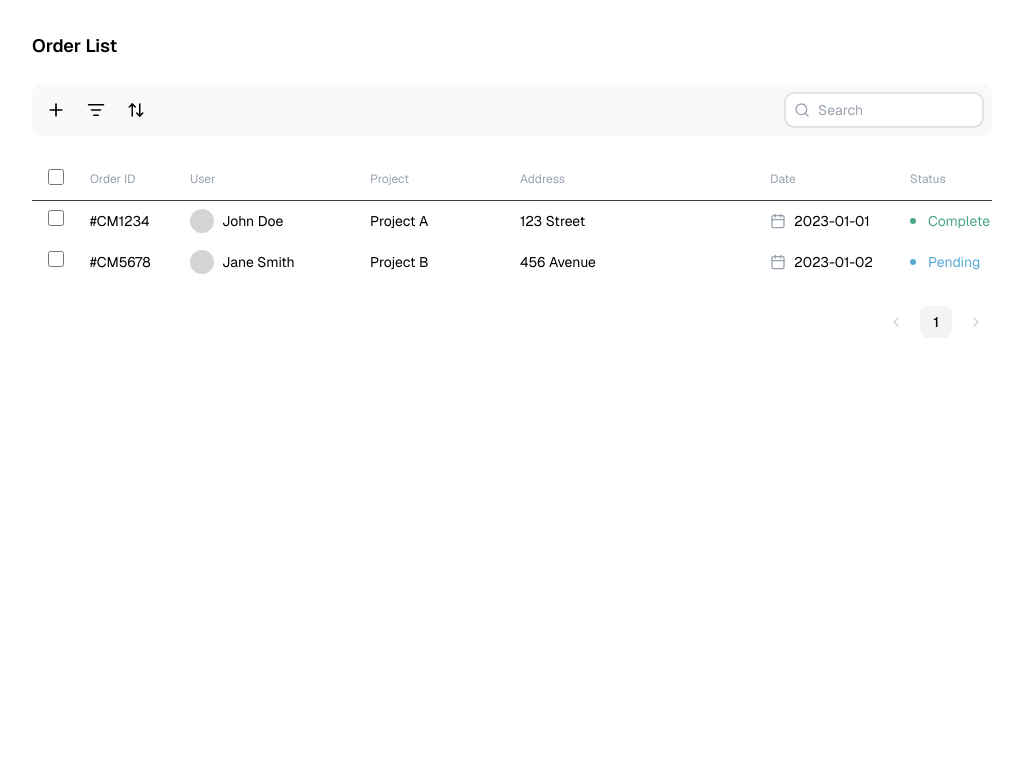
OrdersList Page › can add a new order via the dialog
Click the button named "add order".
click(56, 110)  # box [40,94,72,126]
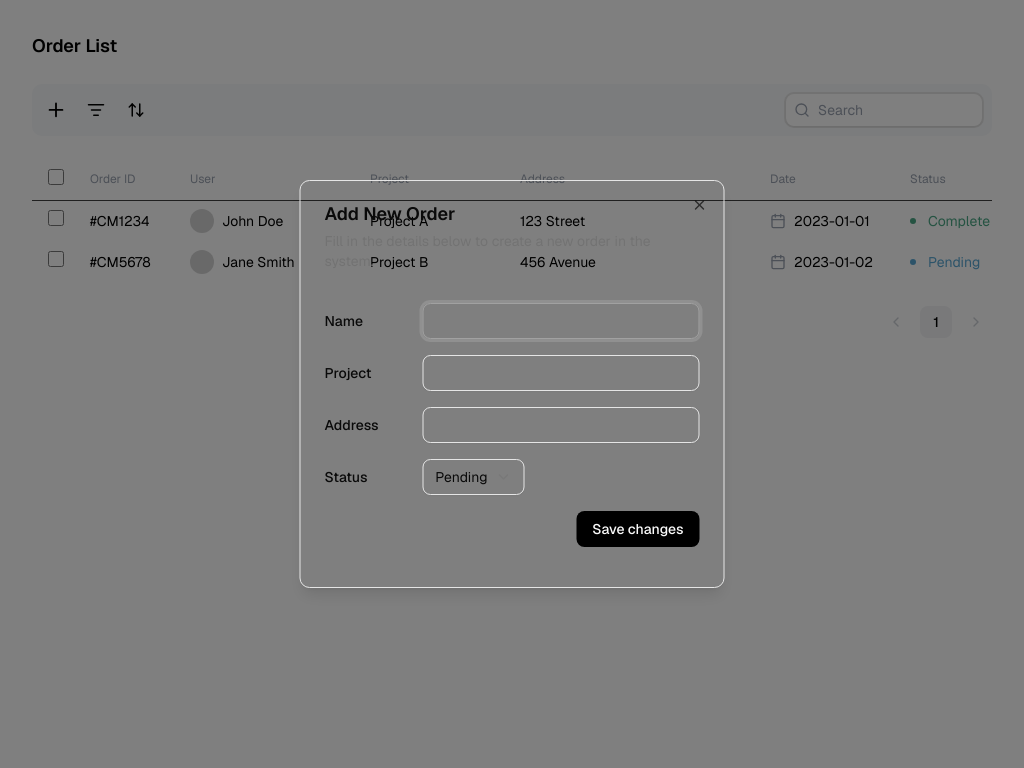
Type "New User" into the field labelled "Name".
click(561, 321); type("New User")  # box [422,303,700,339]
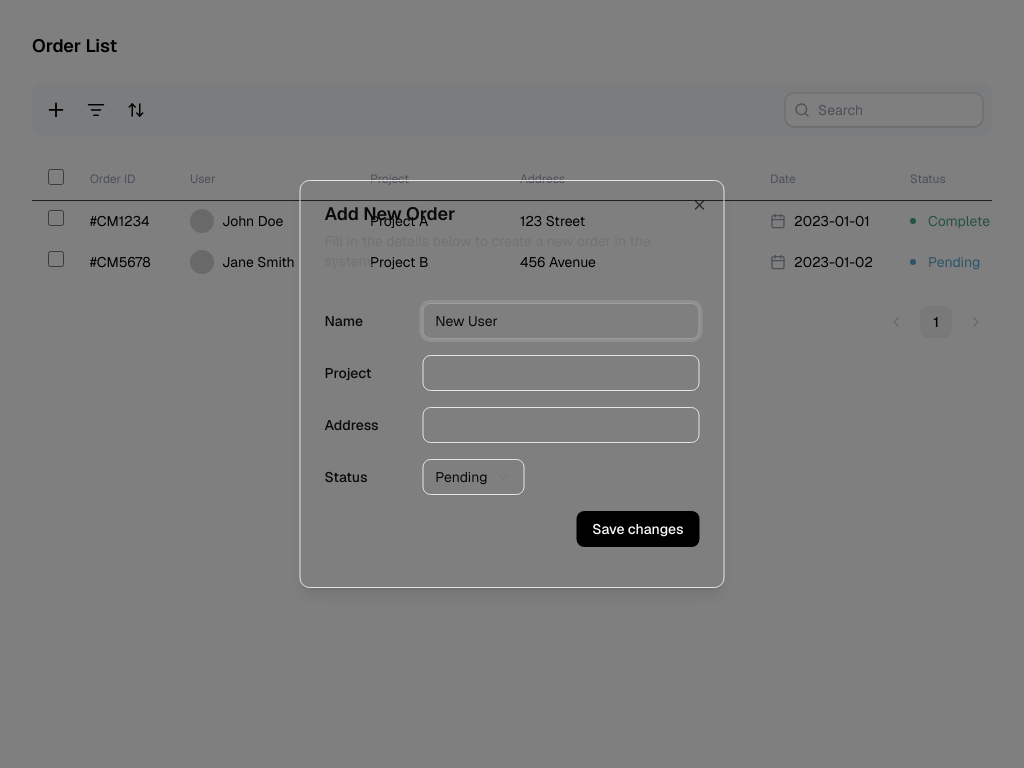
Type "New Project" into the field labelled "Project".
click(561, 373); type("New Project")  # box [422,355,700,391]
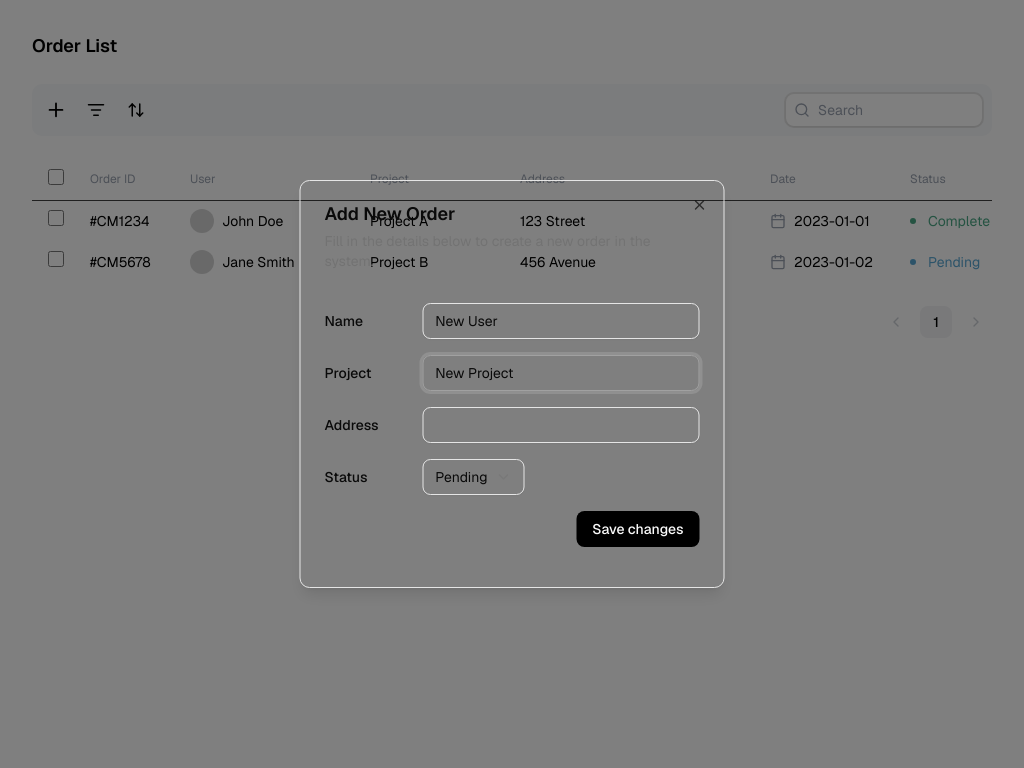
Type "New Address" into the field labelled "Address".
click(561, 425); type("New Address")  # box [422,407,700,443]
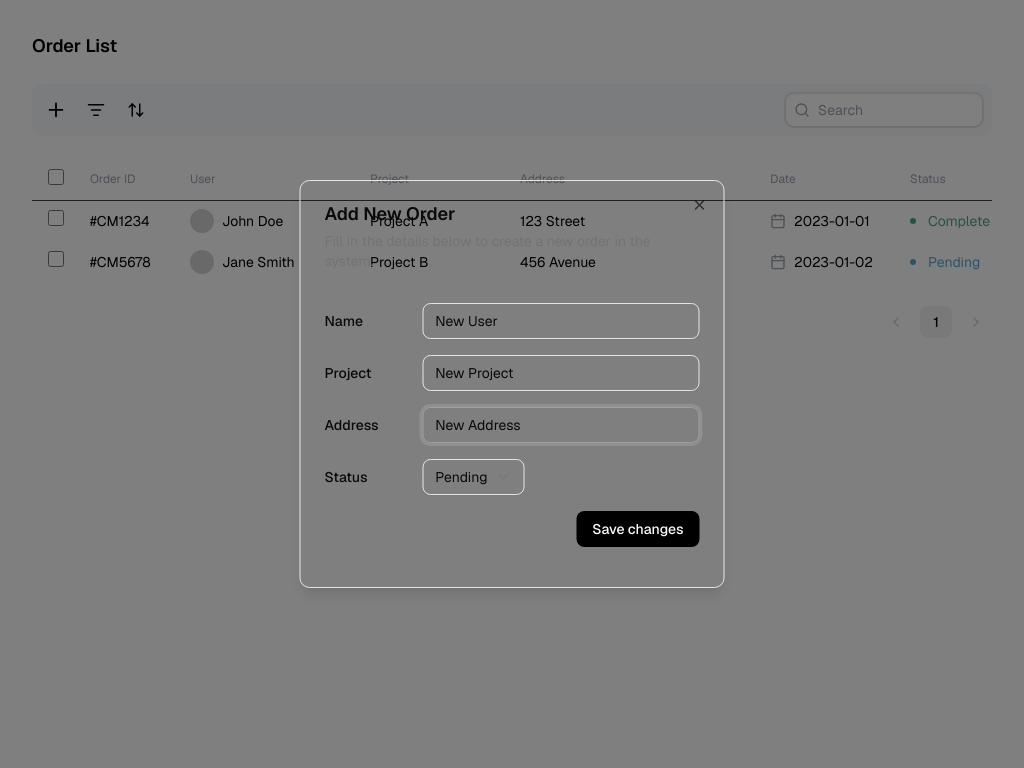
Click the button "Save changes".
click(638, 529)  # box [576,511,700,547]
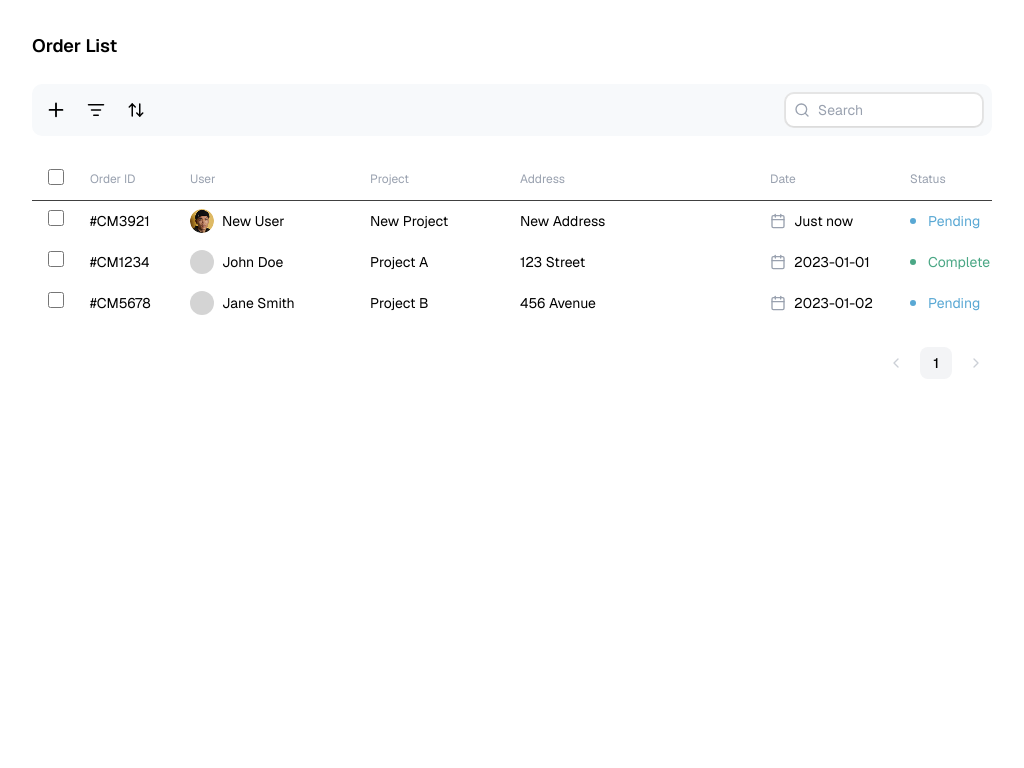
Now the text "New User" is shown, box [222,210,284,230]
